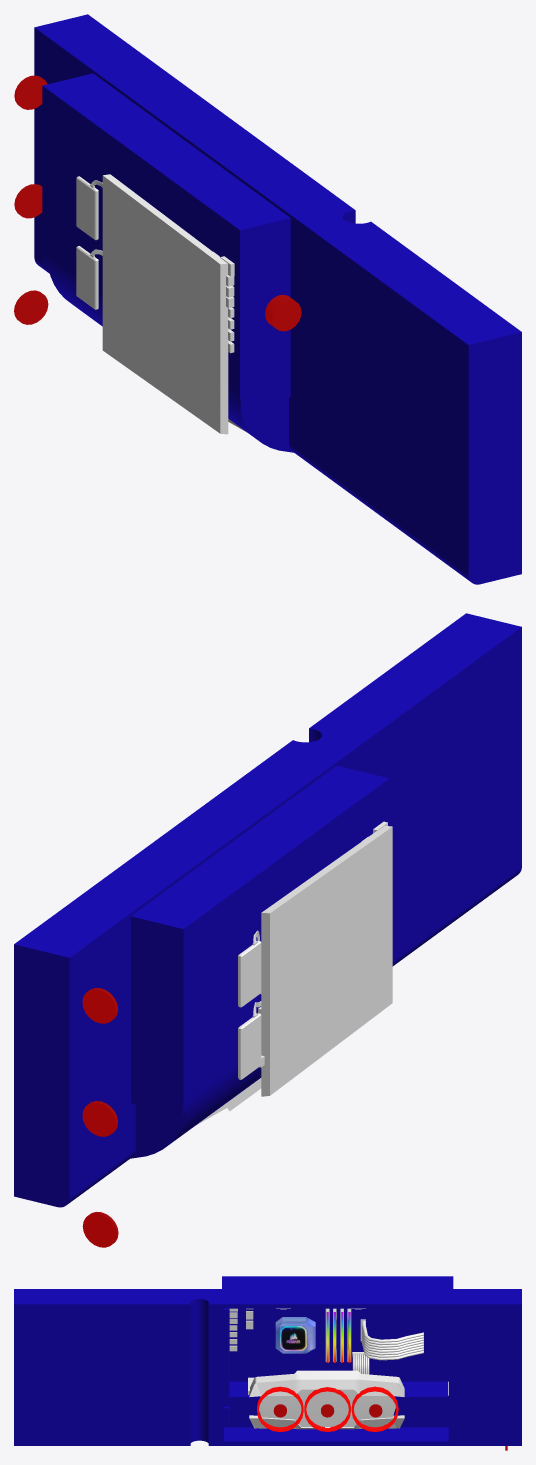
The model's file is computer2.glb.
3 views of the same model, one above another, from view 1: azimuth 30°, elevation 25°; view 2: azimuth 150°, elevation 25°; view 3: azimuth 270°, elevation 25° (orthographic). The views are drawn at different scales.
Visible parts, largest first — view 1: Body1, Object_5, Object_17, Object_31, Object_19; view 2: Body1, Object_5, Object_17, Object_31; view 3: Body1, Object_27, Object_28, Object_8, Object_25, Object_14, Object_19, Object_10, Object_29, Object_26, Object_15, Object_17 (+1 smaller).
Part boxes in pixels (x1,y1,x2,y2): Body1: (34, 14, 521, 584); Object_5: (102, 174, 228, 434); Object_17: (14, 75, 301, 331); Object_31: (76, 176, 98, 309); Object_19: (213, 251, 234, 353); Body1: (14, 613, 521, 1207); Object_5: (261, 825, 392, 1096); Object_17: (82, 988, 118, 1247); Object_31: (238, 940, 261, 1079); Body1: (14, 1276, 521, 1445); Object_27: (256, 1370, 397, 1429); Object_28: (259, 1389, 395, 1426); Object_8: (275, 1317, 315, 1353); Object_25: (361, 1320, 423, 1360); Object_14: (257, 1389, 398, 1431); Object_19: (229, 1308, 365, 1394); Object_10: (249, 1377, 404, 1428); Object_29: (326, 1312, 350, 1362); Object_26: (326, 1308, 350, 1362); Object_15: (257, 1386, 398, 1410); Object_17: (273, 1404, 507, 1450).
Size of the model in its own units: 0.2397 by 0.5606 by 1.56.
17 materials, 3 textured.
